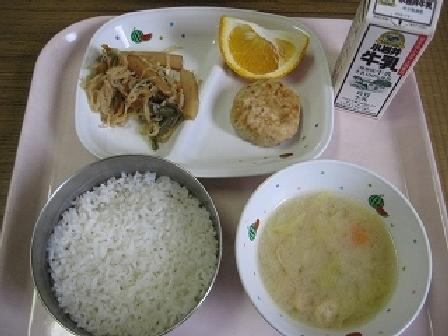Citrus: (214, 10, 305, 78)
Milk: (325, 0, 447, 113)
Rice: (41, 154, 218, 332)
Soups: (246, 162, 420, 325)
cutlet: (224, 83, 304, 151)
vegetable based cooked food: (83, 43, 208, 144)
